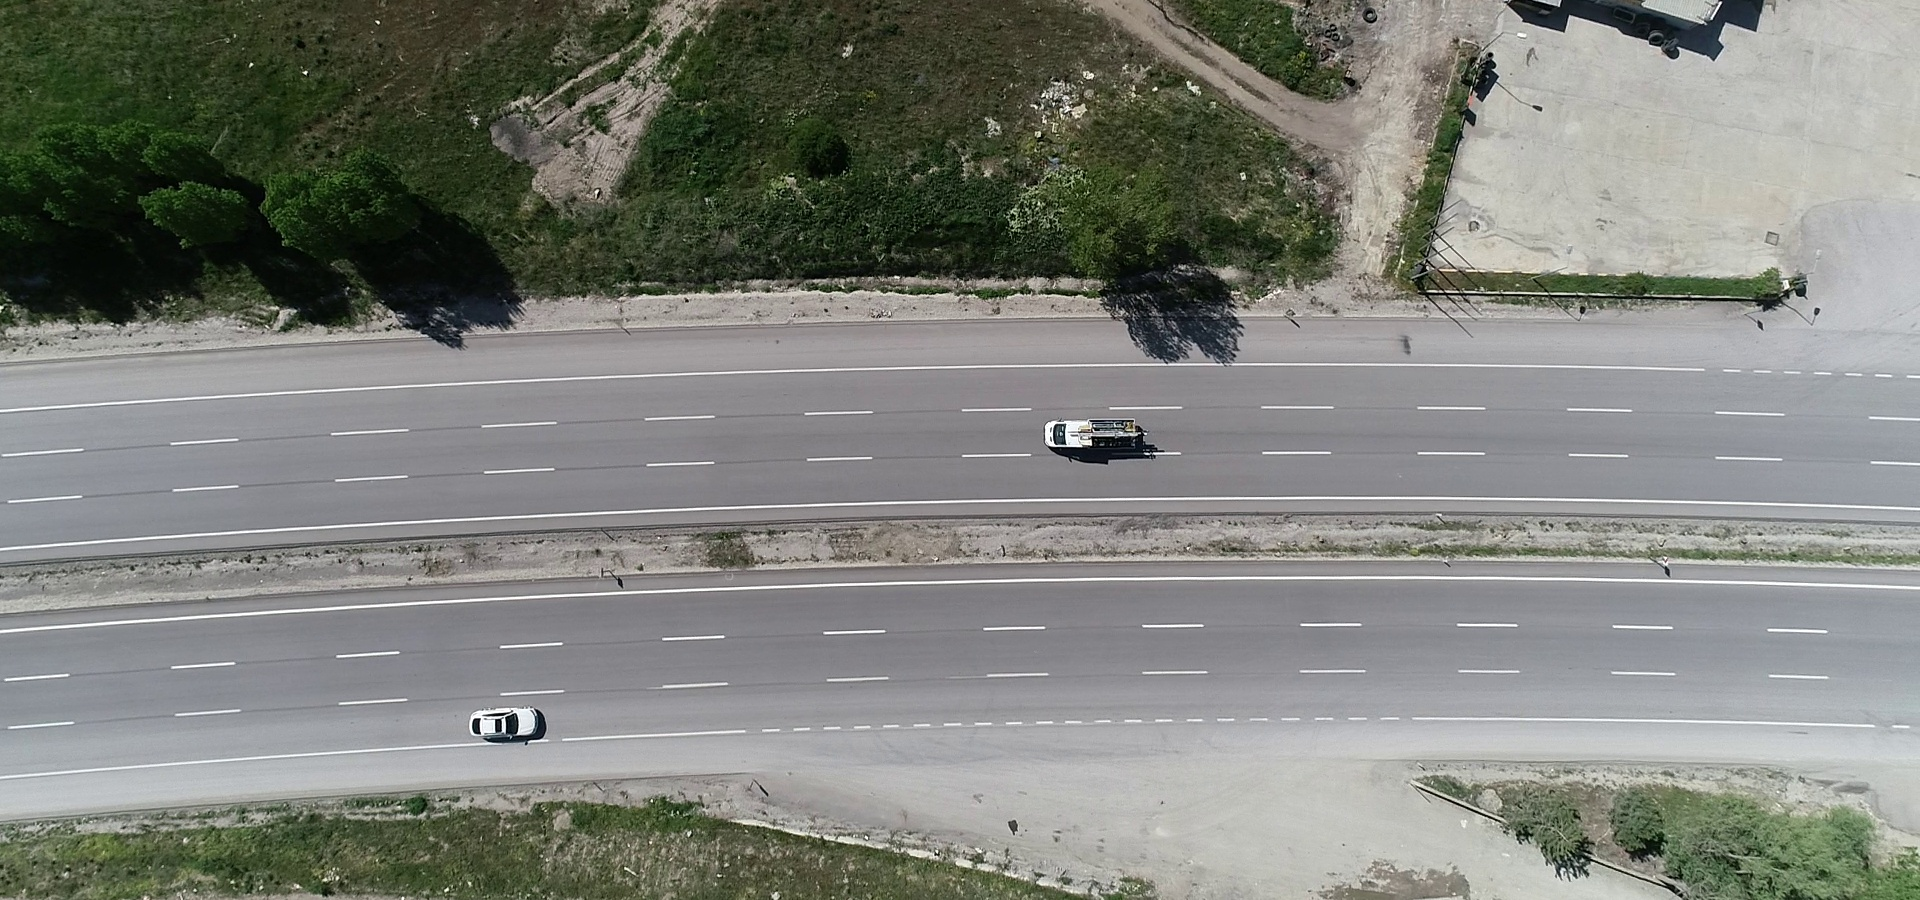arac: (1040, 413, 1153, 469), (462, 699, 562, 742)
